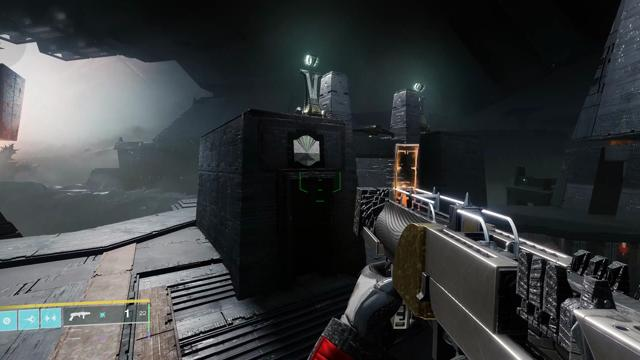commune: (293, 136, 320, 166)
kill: (618, 242, 628, 258)
